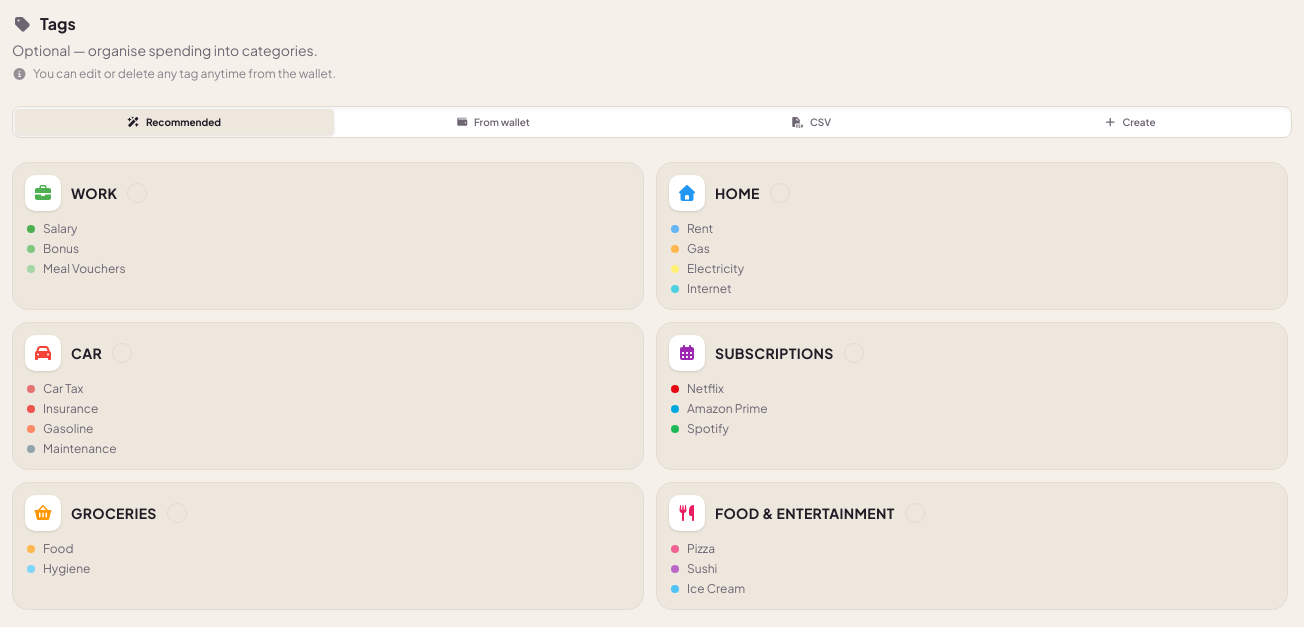
TagsStep — recommended categories › badges an imported category with the source wallet name
Click the button "From wallet" at point(493, 122), box [334,109,652,135]
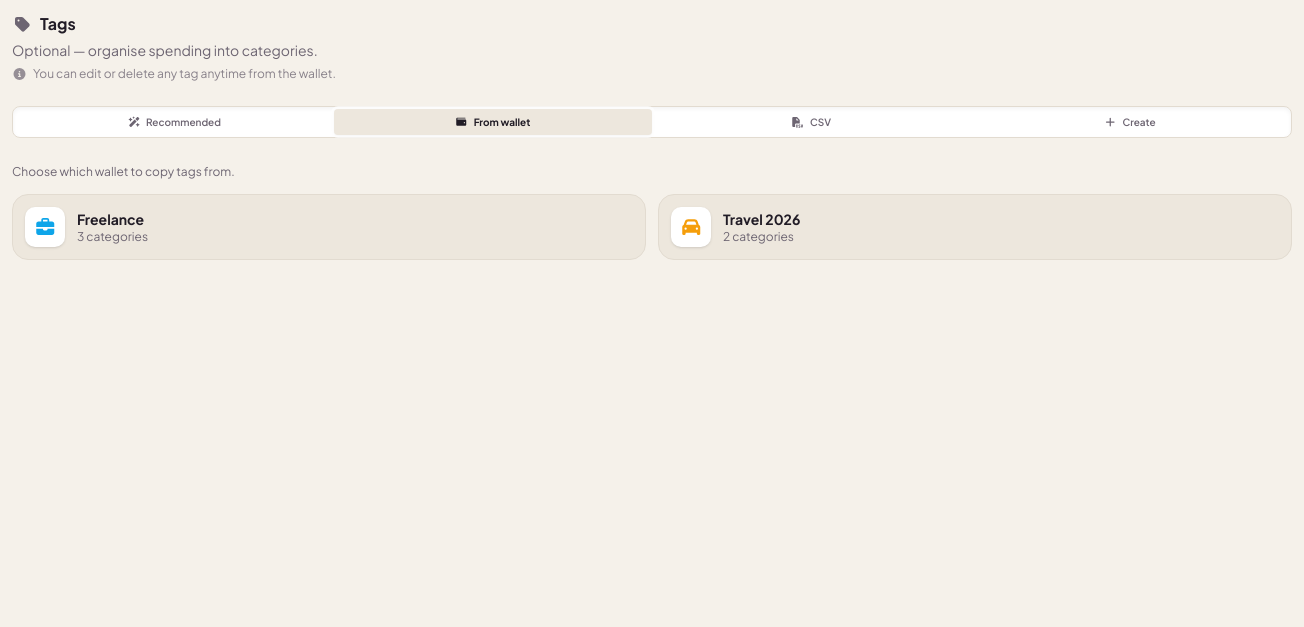
Click the button with aria-label "use tags from freelance" at point(45, 227), box [12,194,646,260]
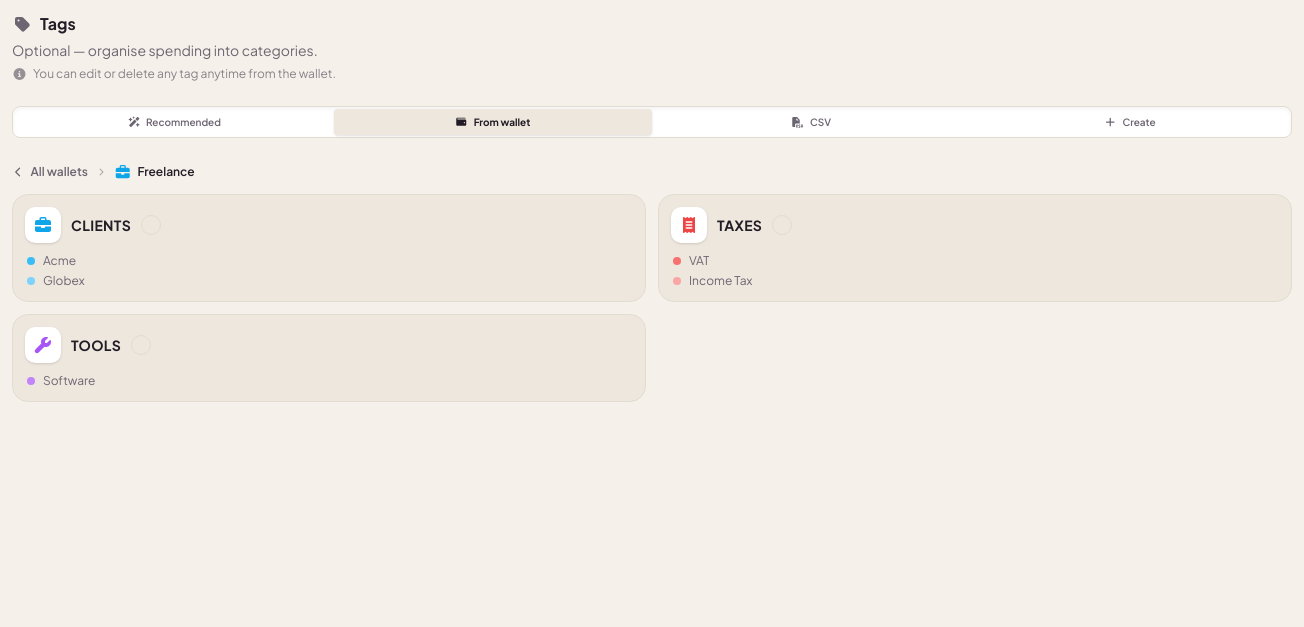
Click the button with aria-label "select the clients category" at point(43, 225), box [12,194,646,302]
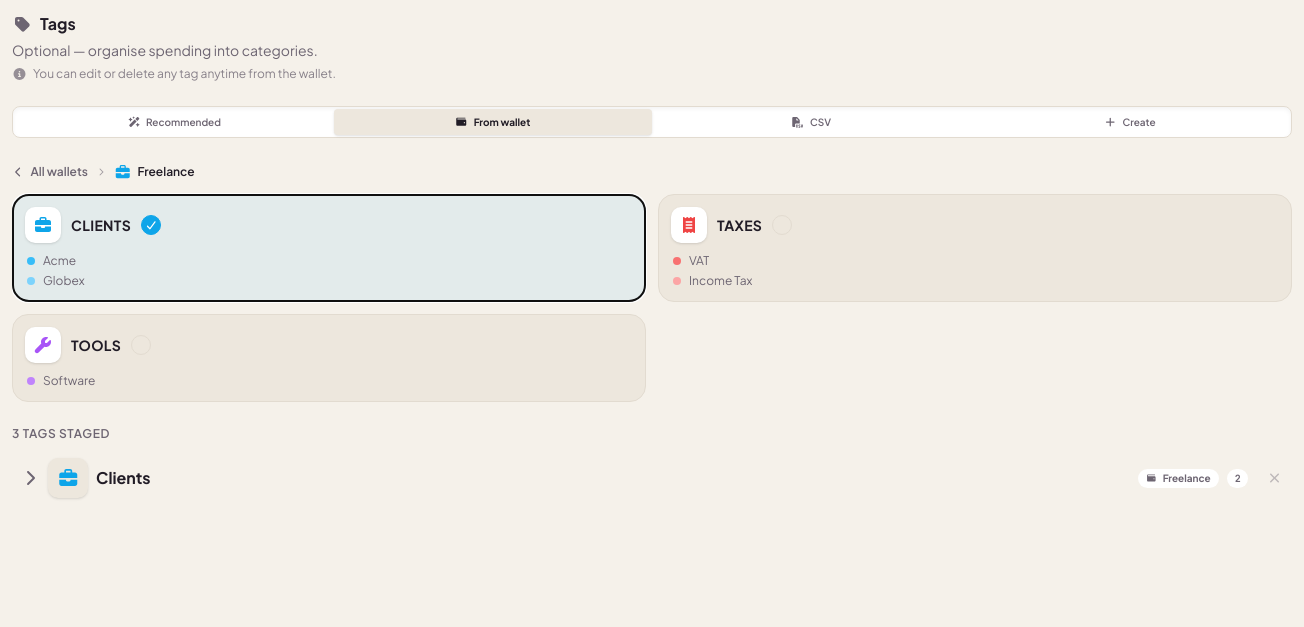
Expected: the text "Freelance" is shown, [1138,468,1219,488]
